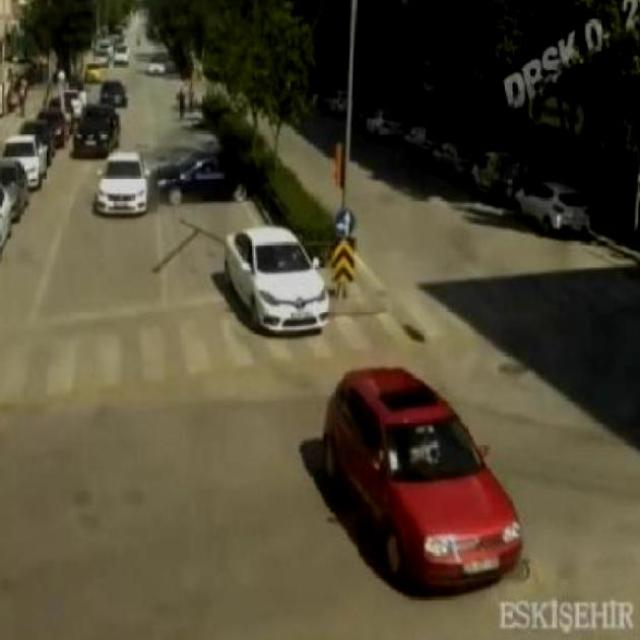accident: (92, 145, 269, 231)
